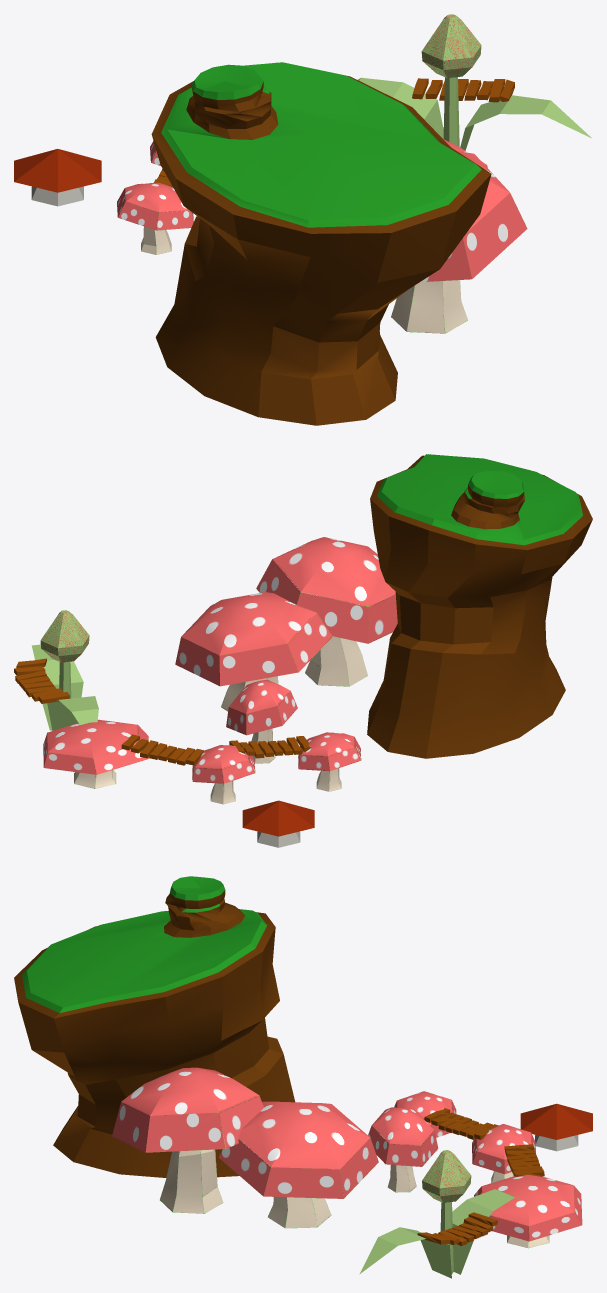
Rendered from stageMash.FBX.
3 renders of one model, top to bottom at view 1: azimuth 30°, elevation 25°; view 2: azimuth 150°, elevation 25°; view 3: azimuth 270°, elevation 25°, orthographic. The views are drawn at different scales.
Parts seen in each view (by area): view 1: Bluff_Grass_01, Mushroom_Red_05 (×2), Plant_Flower_Red_01, Mushroom_Tall_01, Bridge_Timber_Small_01; view 2: Bluff_Grass_01, Mushroom_Red_05 (×6), Plant_Flower_Red_01, Bridge_Timber_Small_01 (×3), Mushroom_Tall_01; view 3: Bluff_Grass_01, Mushroom_Red_05 (×6), Plant_Flower_Red_01, Bridge_Timber_Small_01 (×3), Mushroom_Tall_01.
Part boxes in pixels (x1,y1,x2,y2): Bluff_Grass_01: [151, 62, 491, 425]; Mushroom_Red_05 (×2): [117, 151, 527, 333]; Plant_Flower_Red_01: [357, 14, 591, 150]; Mushroom_Tall_01: [14, 149, 101, 206]; Bridge_Timber_Small_01: [412, 78, 514, 102]; Bluff_Grass_01: [367, 454, 592, 758]; Mushroom_Red_05 (×6): [43, 537, 397, 804]; Plant_Flower_Red_01: [31, 610, 98, 730]; Bridge_Timber_Small_01 (×3): [14, 658, 311, 765]; Mushroom_Tall_01: [242, 800, 314, 847]; Bluff_Grass_01: [14, 876, 295, 1177]; Mushroom_Red_05 (×6): [112, 1067, 582, 1248]; Plant_Flower_Red_01: [359, 1150, 519, 1278]; Bridge_Timber_Small_01 (×3): [417, 1108, 544, 1246]; Mushroom_Tall_01: [520, 1103, 592, 1151].
Bounding box in the file's own units: 2723 × 3083 × 1415.
9 materials, 2 textured.
